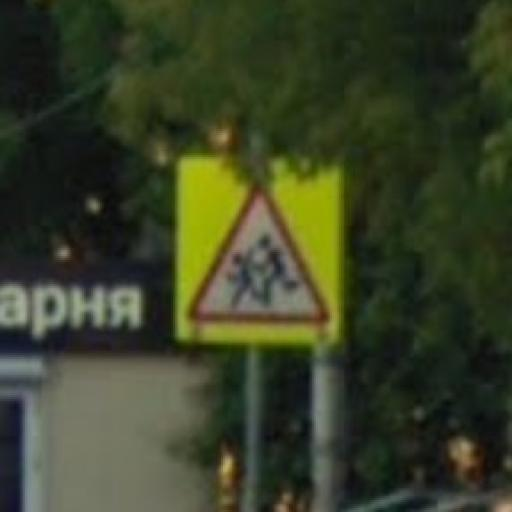traffic_sign: (186, 177, 333, 328)
